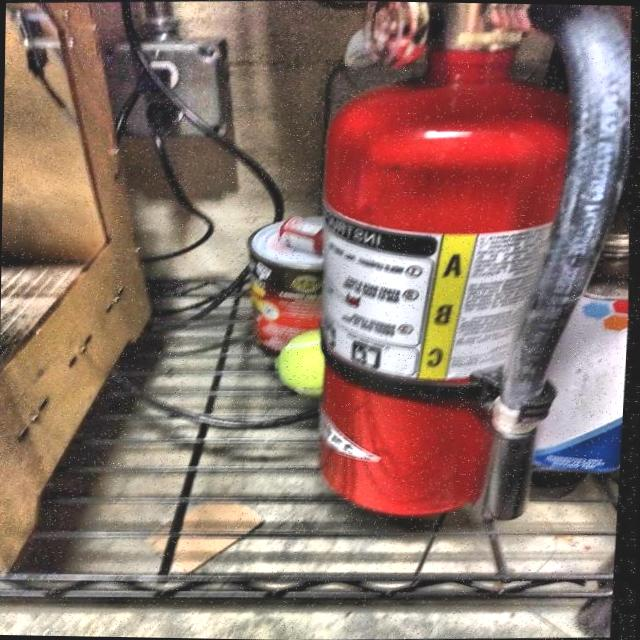Tennis Ball: (272, 325, 332, 404)
